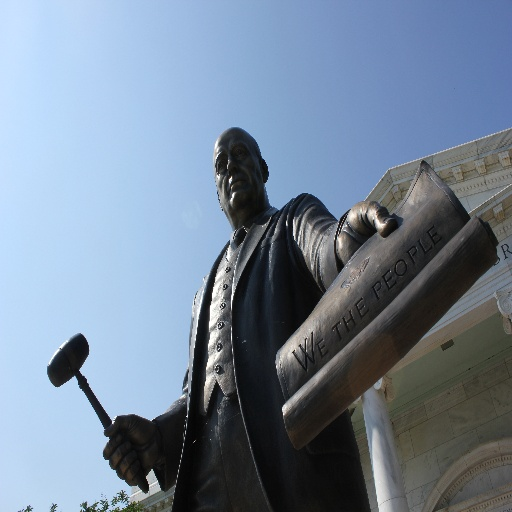hand: (88, 416, 159, 494), (335, 200, 397, 269)
